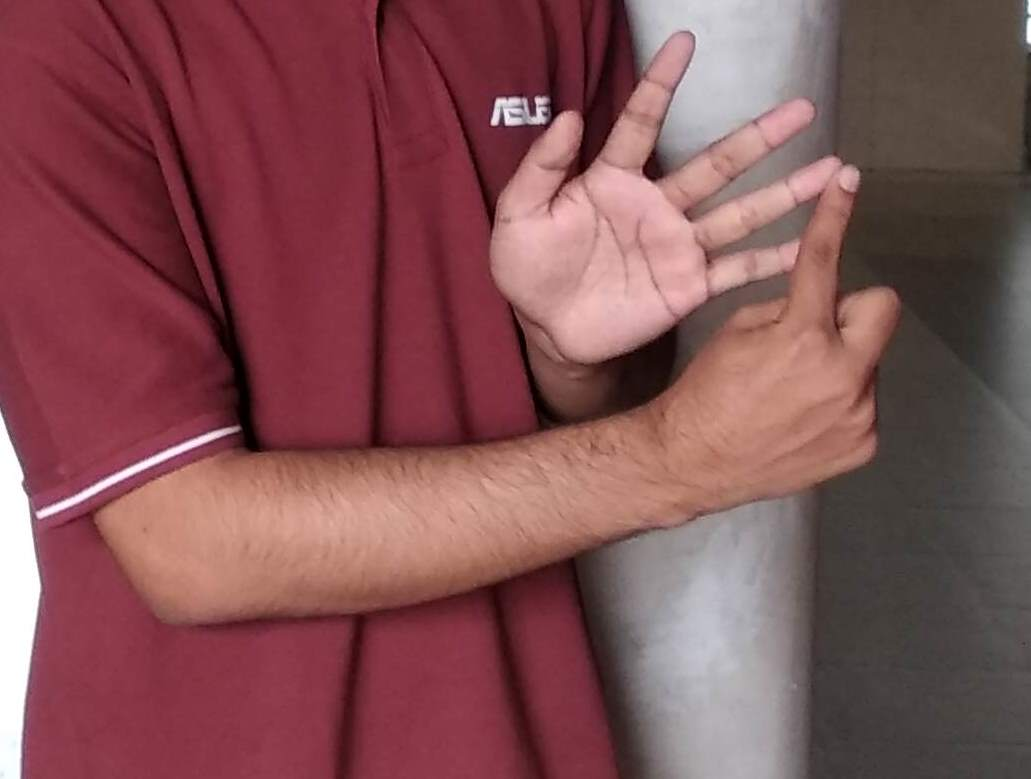e: (641, 75, 898, 426)
